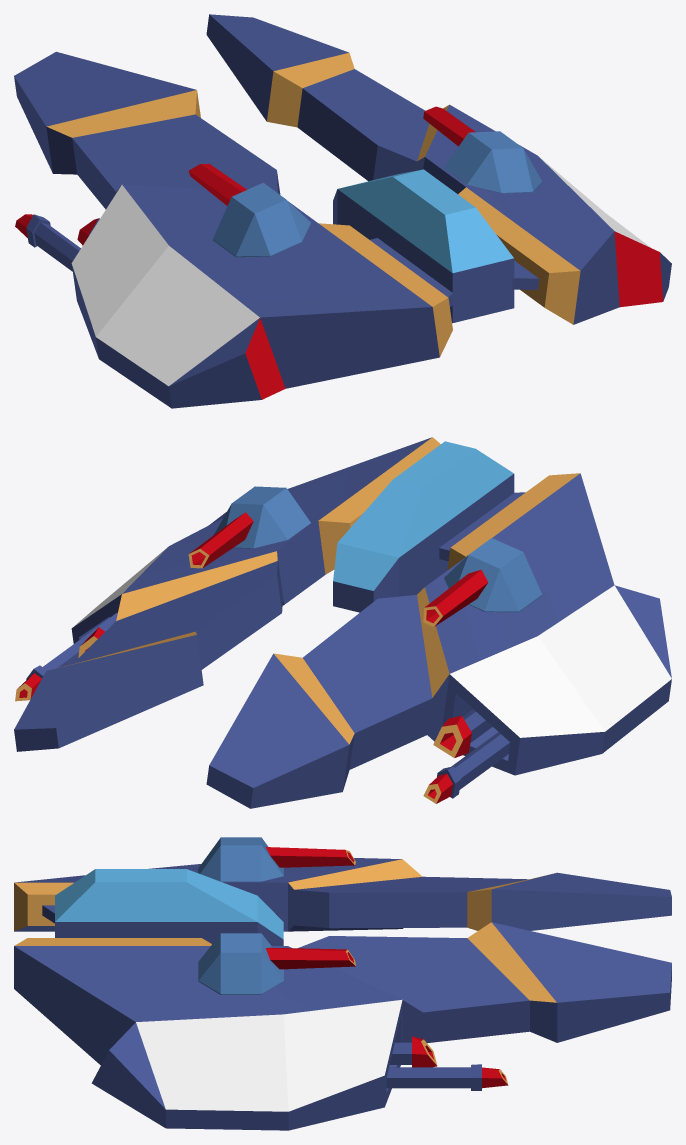
The model's file is SPACE_SHIP_3.fbx.
3 renders of one model, top to bottom at view 1: azimuth 30°, elevation 25°; view 2: azimuth 150°, elevation 25°; view 3: azimuth 270°, elevation 25°, orthographic. The views are drawn at different scales.
Parts seen in each view (by area): view 1: SPACE_SHIP_3; view 2: SPACE_SHIP_3; view 3: SPACE_SHIP_3.
Part boxes in pixels (bbox=[...]): SPACE_SHIP_3: bbox=[14, 14, 671, 408]; SPACE_SHIP_3: bbox=[14, 437, 671, 808]; SPACE_SHIP_3: bbox=[14, 837, 671, 1130].
Bounding box in the file's own units: 240 × 75.2 × 305.
